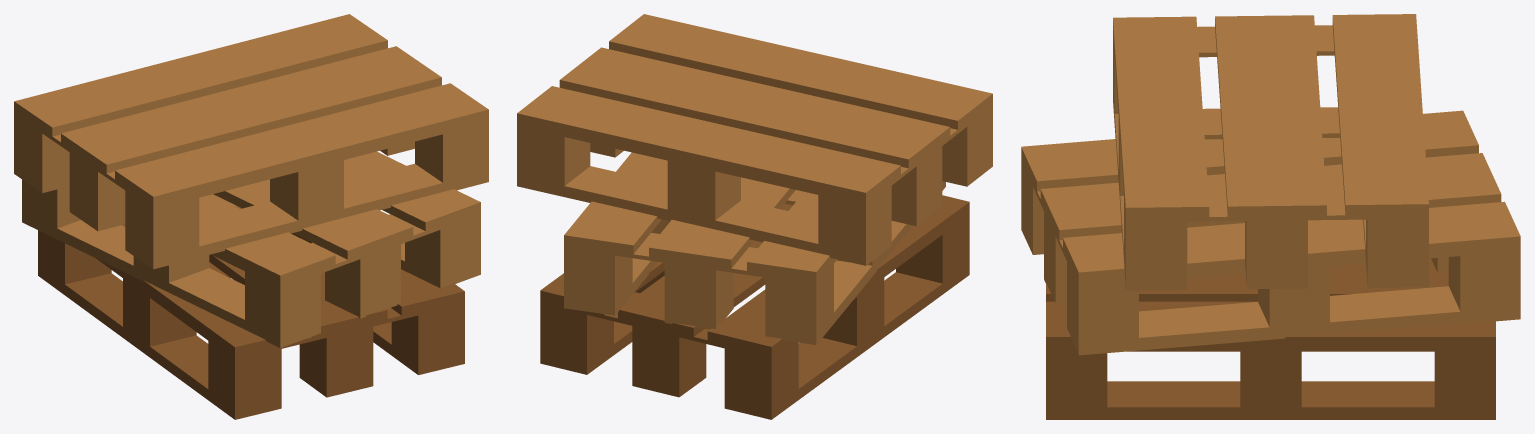
The picture shows the model from 3 angles, left to right: view 1: azimuth 30°, elevation 25°; view 2: azimuth 150°, elevation 25°; view 3: azimuth 270°, elevation 25°; orthographic projection. The views are drawn at different scales.
Visible parts, largest first — view 1: A-21; view 2: A-21; view 3: A-21.
Boxes of the visible parts, bbox=[...] form: A-21: bbox=[14, 14, 488, 419]; A-21: bbox=[517, 14, 992, 419]; A-21: bbox=[1021, 14, 1520, 419].
Bounding box in the file's own units: 475 × 280 × 517.
